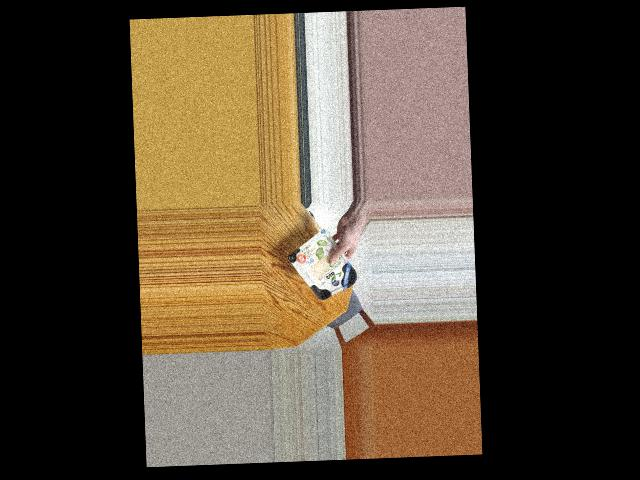cheese: (291, 238, 361, 298)
